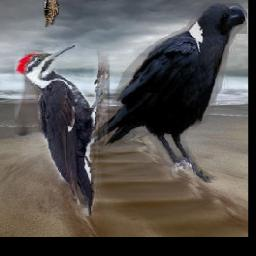Crow: (88, 3, 247, 183)
Woodpecker: (15, 44, 110, 217), (44, 0, 59, 27)
